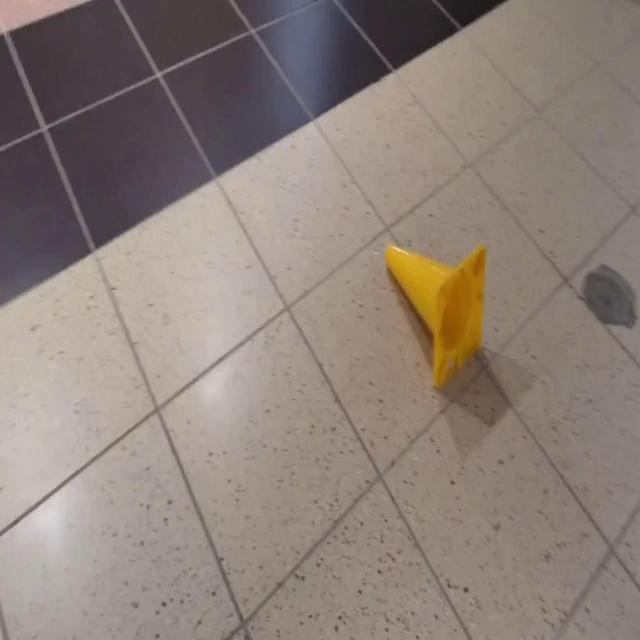frc_cone: (386, 241, 488, 391)
